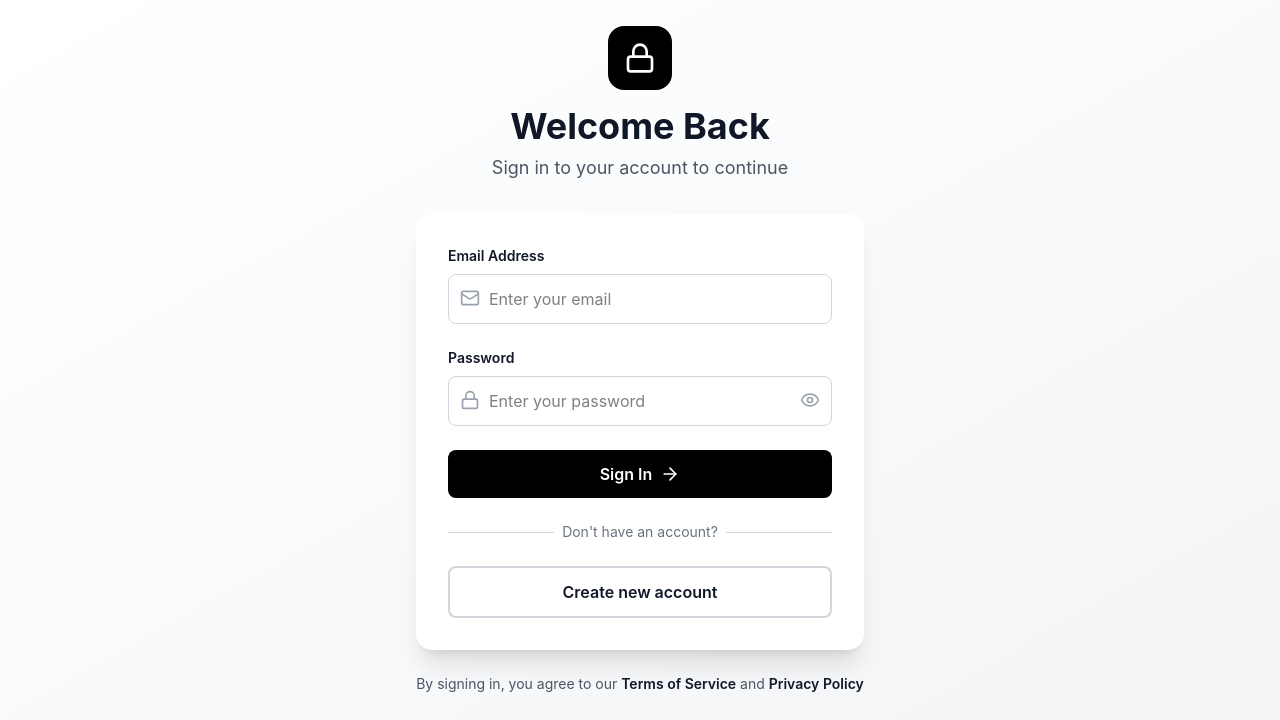
Authentication E2E Tests › should show error message on invalid credentials
The width and height of the screenshot is (1280, 720).
Type "wrong@example.com" into the field with placeholder "Enter your email" at (640, 299), box [448,274,832,324]
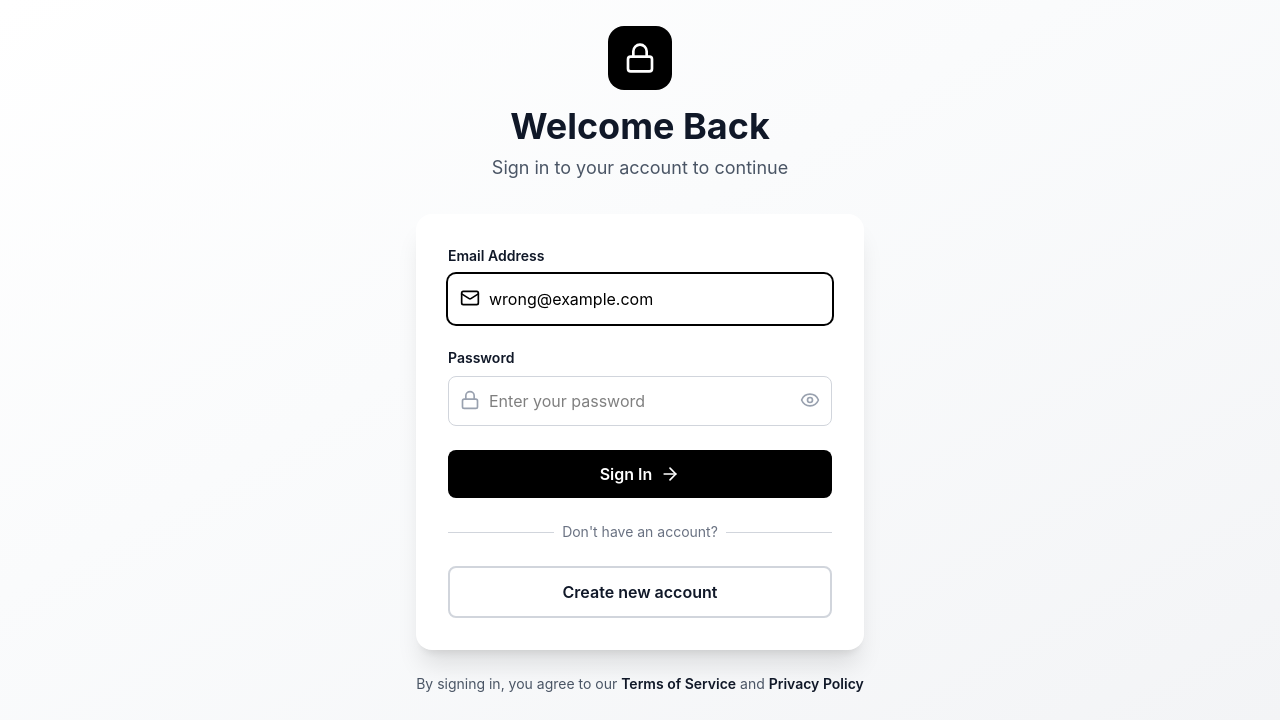
Type "wrongpassword" into the password field with placeholder "Enter your password" at (640, 401), box [448,376,832,426]
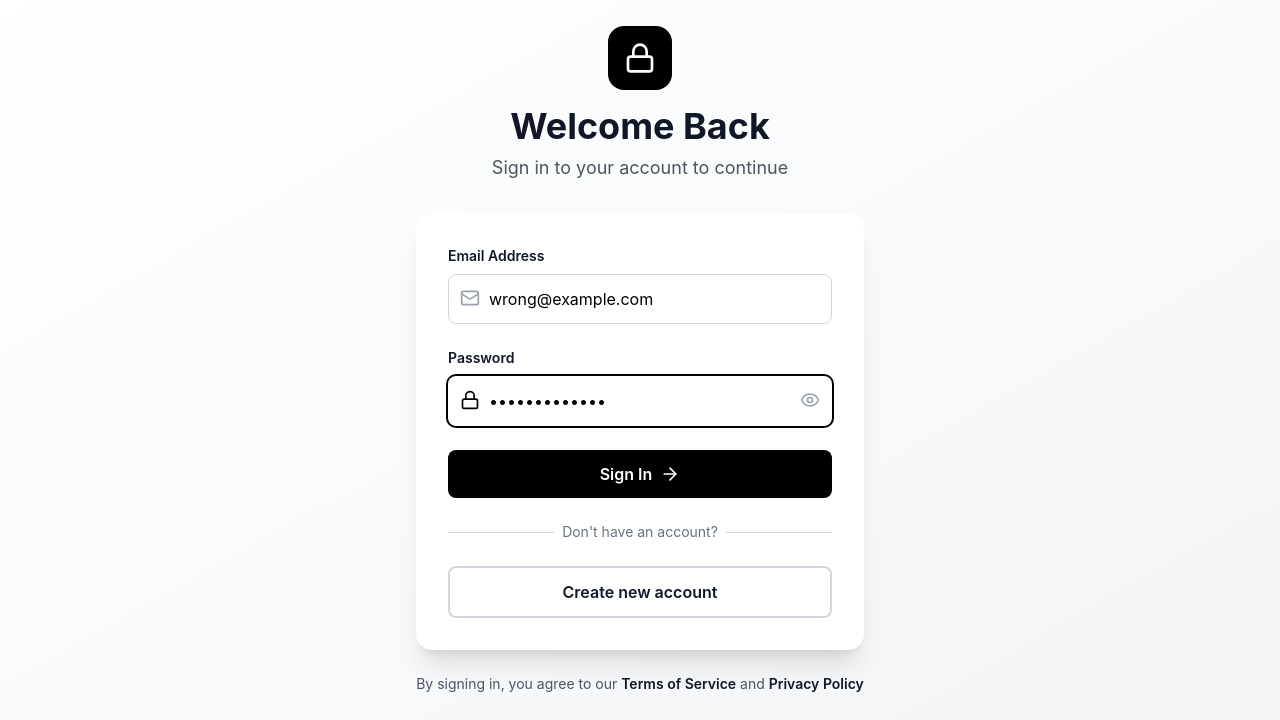
Click the button "Sign In" at (640, 474), box [448,450,832,498]
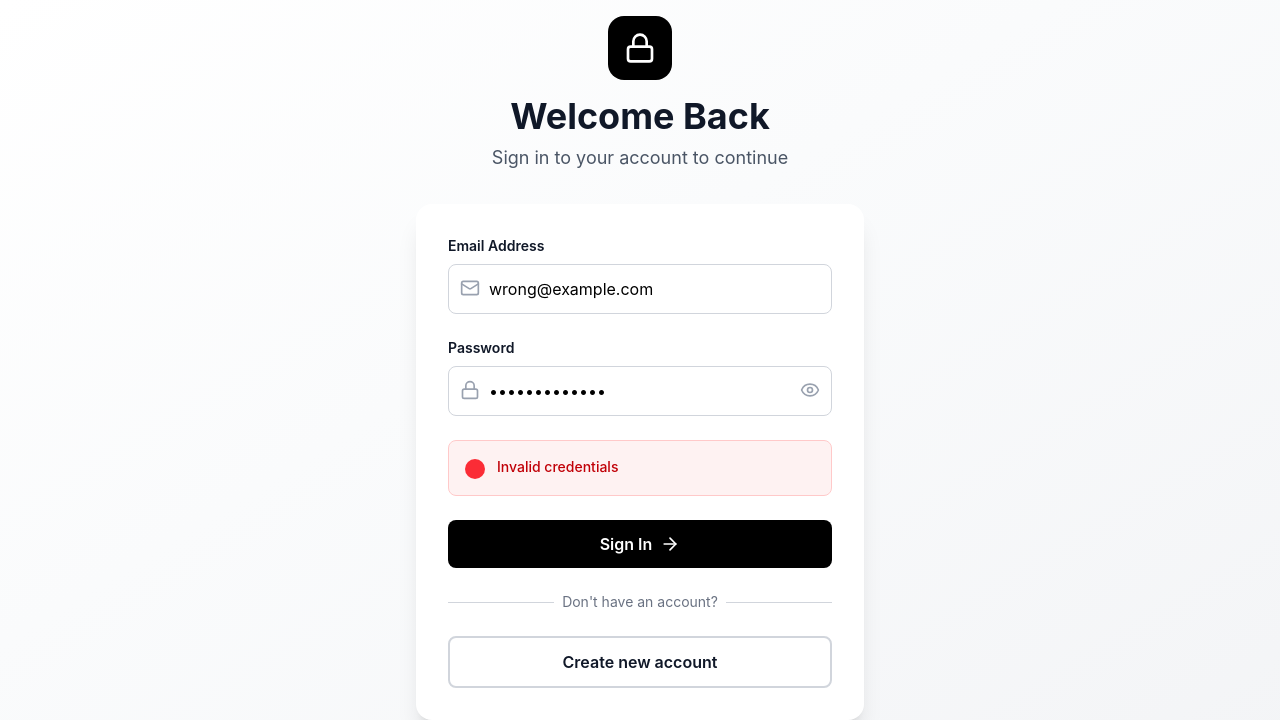
Expected: the text "Invalid credentials" is shown, [497,457,618,479]
